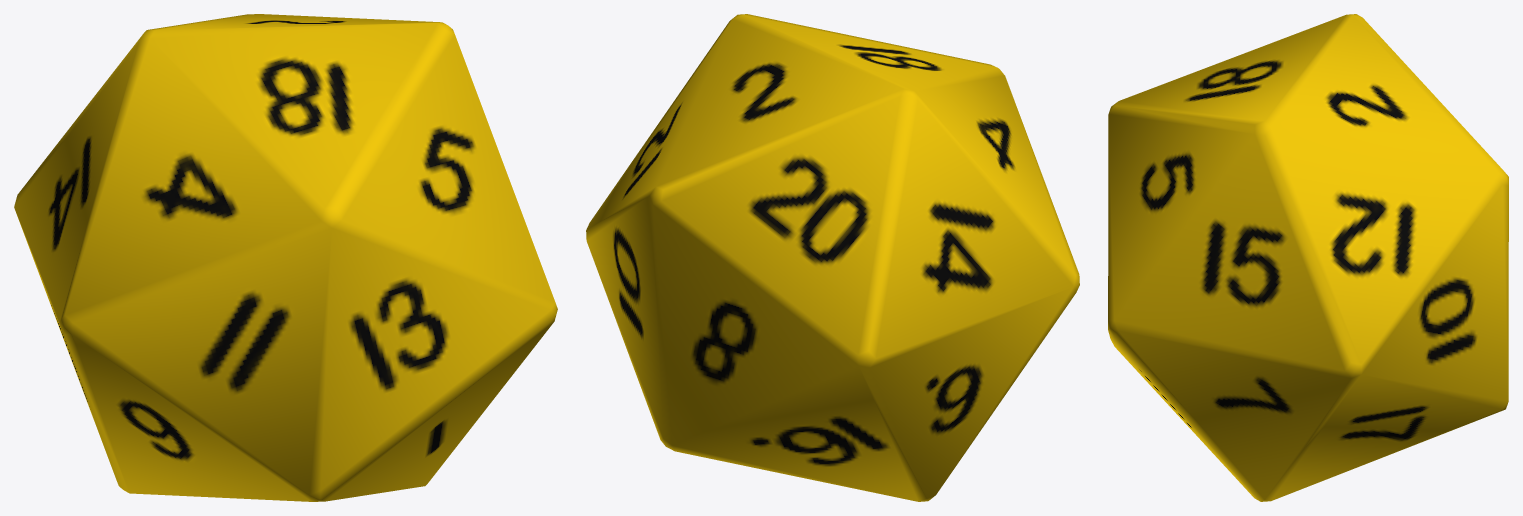
The picture shows the model from 3 angles, left to right: view 1: azimuth 30°, elevation 25°; view 2: azimuth 150°, elevation 25°; view 3: azimuth 270°, elevation 25°; orthographic projection. The views are drawn at different scales.
Visible parts, largest first — view 1: Twenty_sided_cube_pivot.003; view 2: Twenty_sided_cube_pivot.003; view 3: Twenty_sided_cube_pivot.003.
Part boxes in pixels (x1,y1,x2,y2): Twenty_sided_cube_pivot.003: (14, 14, 557, 501); Twenty_sided_cube_pivot.003: (586, 14, 1079, 501); Twenty_sided_cube_pivot.003: (1108, 14, 1508, 501).
Bounding box in the file's own units: 2.28 × 2.05 × 1.87.
1 material, 1 textured.
